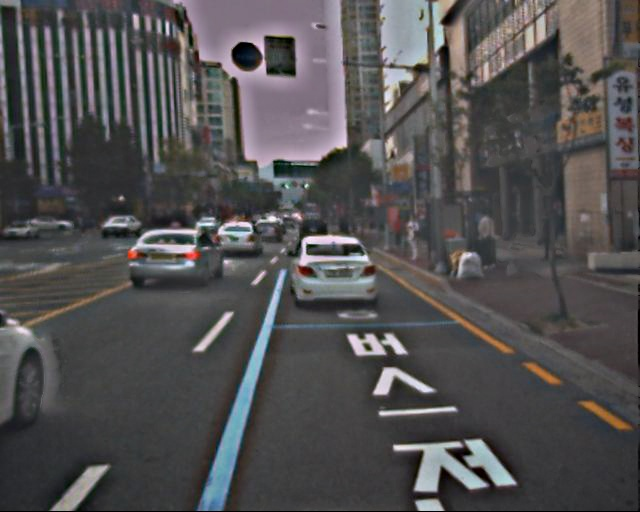person: (474, 208, 500, 272), (539, 208, 562, 263), (403, 213, 424, 264)
